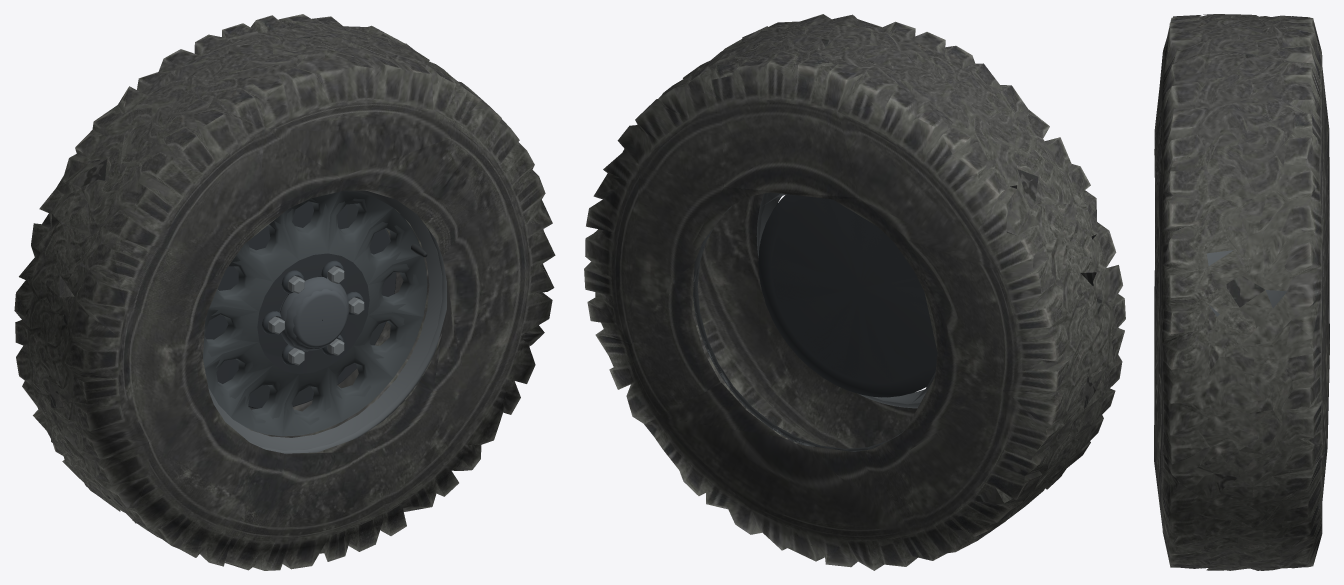
The model's file is roda-pm-0a33e2562a86.glb.
The picture shows the model from 3 angles, left to right: view 1: azimuth 30°, elevation 25°; view 2: azimuth 150°, elevation 25°; view 3: azimuth 270°, elevation 25°; orthographic projection.
Visible parts, largest first — view 1: borracha-pm, aro-pm-1, aro-pm-0, aro-pm-2; view 2: borracha-pm, aro-pm-0, aro-pm-2, aro-pm-1; view 3: borracha-pm, aro-pm-2.
Part boxes in pixels (x1,y1,x2,y2): borracha-pm: (14, 14, 555, 570); aro-pm-1: (203, 192, 446, 453); aro-pm-0: (206, 198, 446, 453); aro-pm-2: (203, 190, 442, 450); borracha-pm: (584, 14, 1125, 570); aro-pm-0: (693, 192, 937, 451); aro-pm-2: (693, 192, 935, 451); aro-pm-1: (693, 196, 936, 450); borracha-pm: (1154, 14, 1329, 570); aro-pm-2: (1206, 250, 1287, 316).
Size of the model in its own units: 0.8393 by 0.8395 by 0.265.
Materials: 2 (1 with a texture image).
